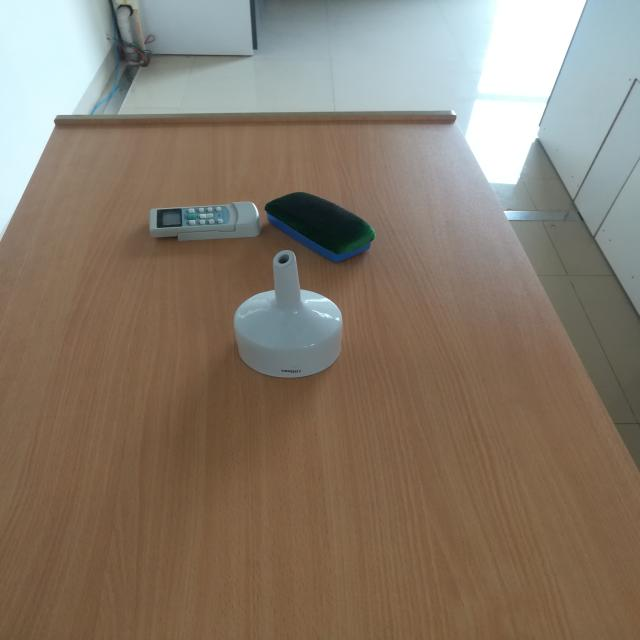Buchner_Funnel: (207, 222, 378, 398)
